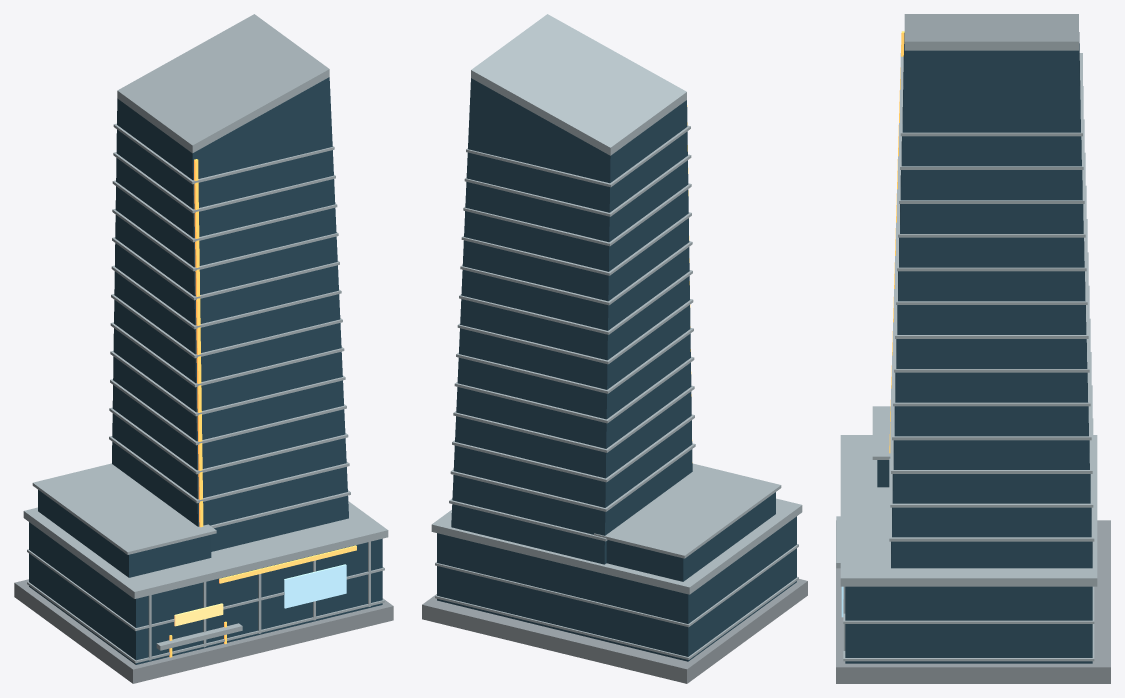
The model's file is Atlantis_Flashpoint_HQ_v1.glb.
3 views of the same model, side by side, from view 1: azimuth 30°, elevation 25°; view 2: azimuth 150°, elevation 25°; view 3: azimuth 270°, elevation 25° (orthographic). The views are drawn at different scales.
Parts seen in each view (by area): view 1: Flashpoint_DarkGlazing, Flashpoint_StructuralSilver, Flashpoint_PodiumConcrete, Flashpoint_LaunchDisplay, Flashpoint_MomentumAccent, Flashpoint_Ticker, Flashpoint_Signage_Main; view 2: Flashpoint_DarkGlazing, Flashpoint_StructuralSilver, Flashpoint_PodiumConcrete; view 3: Flashpoint_DarkGlazing, Flashpoint_StructuralSilver, Flashpoint_PodiumConcrete, Flashpoint_MomentumAccent.
Part boxes in pixels (x1,y1,x2,y2): Flashpoint_DarkGlazing: (29,77,382,664); Flashpoint_StructuralSilver: (23,14,388,663); Flashpoint_PodiumConcrete: (14,579,393,683); Flashpoint_LaunchDisplay: (284,564,346,608); Flashpoint_MomentumAccent: (169,159,226,657); Flashpoint_Ticker: (219,545,356,583); Flashpoint_Signage_Main: (174,603,223,626); Flashpoint_DarkGlazing: (437,78,796,661); Flashpoint_StructuralSilver: (431,14,802,659); Flashpoint_PodiumConcrete: (422,579,807,683); Flashpoint_DarkGlazing: (845,32,1092,663); Flashpoint_StructuralSilver: (836,14,1097,661); Flashpoint_PodiumConcrete: (836,520,1110,683); Flashpoint_MomentumAccent: (889,31,904,453).
Bounding box in the file's own units: 38 × 75 × 30.
